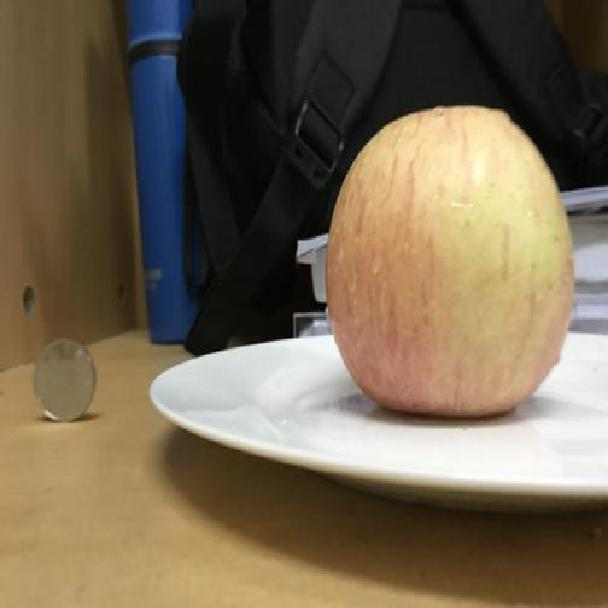apple: (327, 103, 587, 421)
